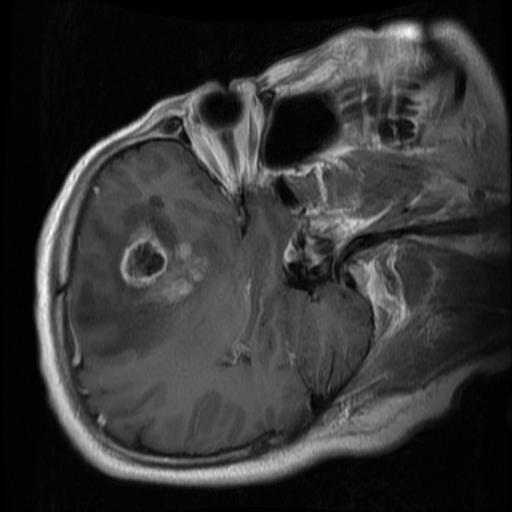glioma: (73, 195, 207, 358)
